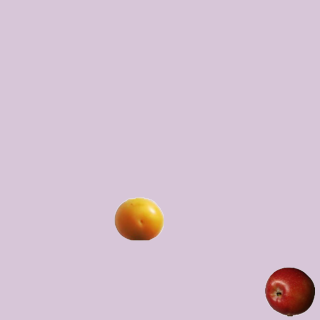Apple Braeburn: (264, 266, 314, 316)
Cherry Wax Yellow: (113, 193, 163, 243)
